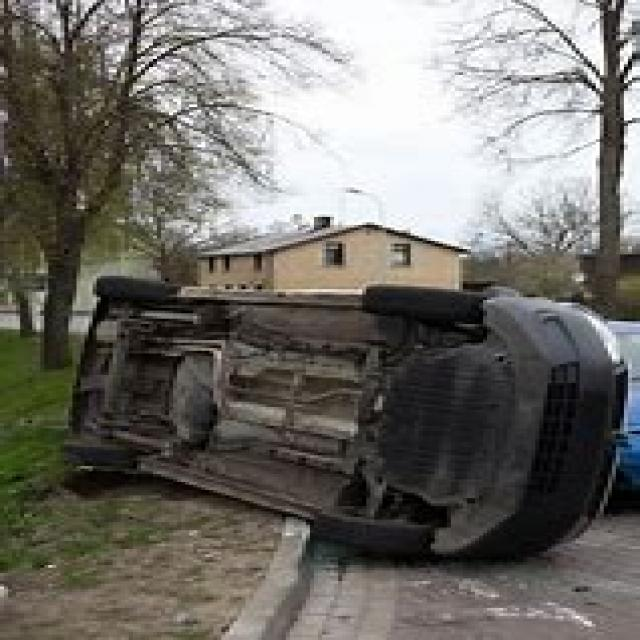Accident: (81, 194, 640, 614)
